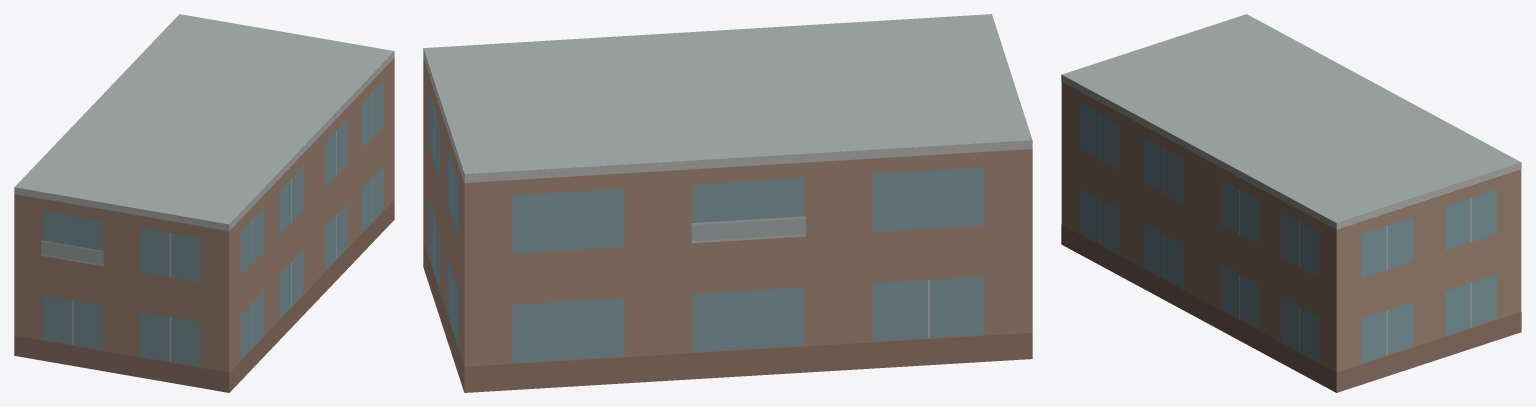
Rendered from survey-upis-32809328.glb.
The picture shows the model from 3 angles, left to right: view 1: azimuth 30°, elevation 25°; view 2: azimuth 150°, elevation 25°; view 3: azimuth 270°, elevation 25°; orthographic projection. The views are drawn at different scales.
Visible parts, largest first — view 1: survey-upis-32809328.tmp; view 2: survey-upis-32809328.tmp; view 3: survey-upis-32809328.tmp.
Part boxes in pixels (left/top/right/bottom): survey-upis-32809328.tmp: left=14, top=14, right=394, bottom=392; survey-upis-32809328.tmp: left=423, top=14, right=1032, bottom=392; survey-upis-32809328.tmp: left=1061, top=14, right=1521, bottom=392.
Bounding box in the file's own units: 16.11 × 6.1 × 14.98.
